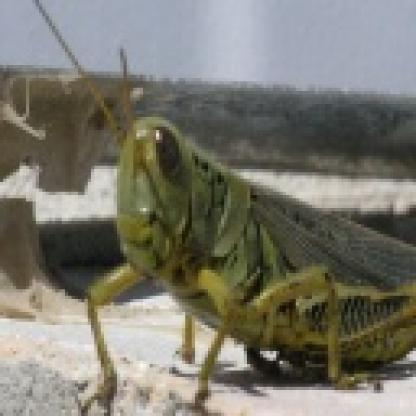grasshopper: (60, 73, 416, 416)
